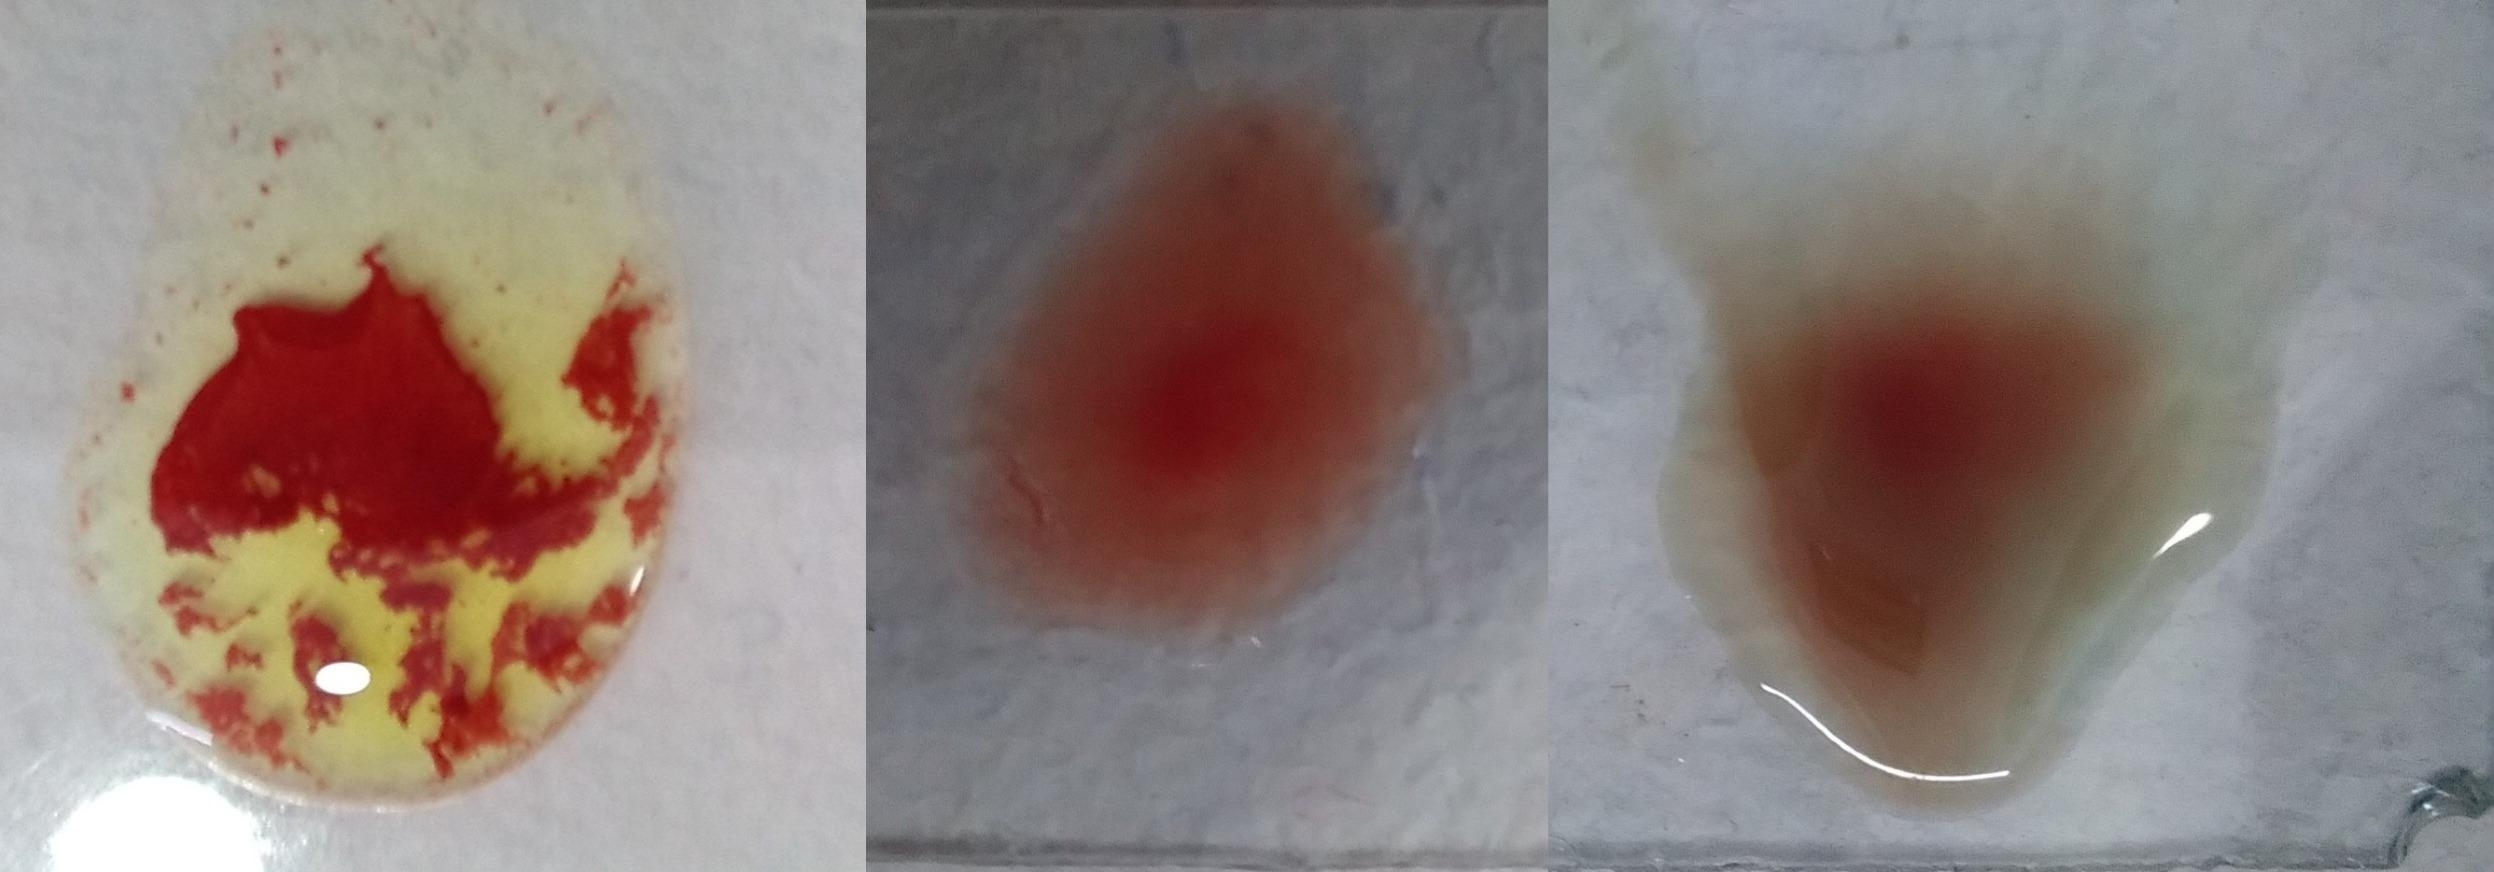B: (87, 13, 674, 810)
